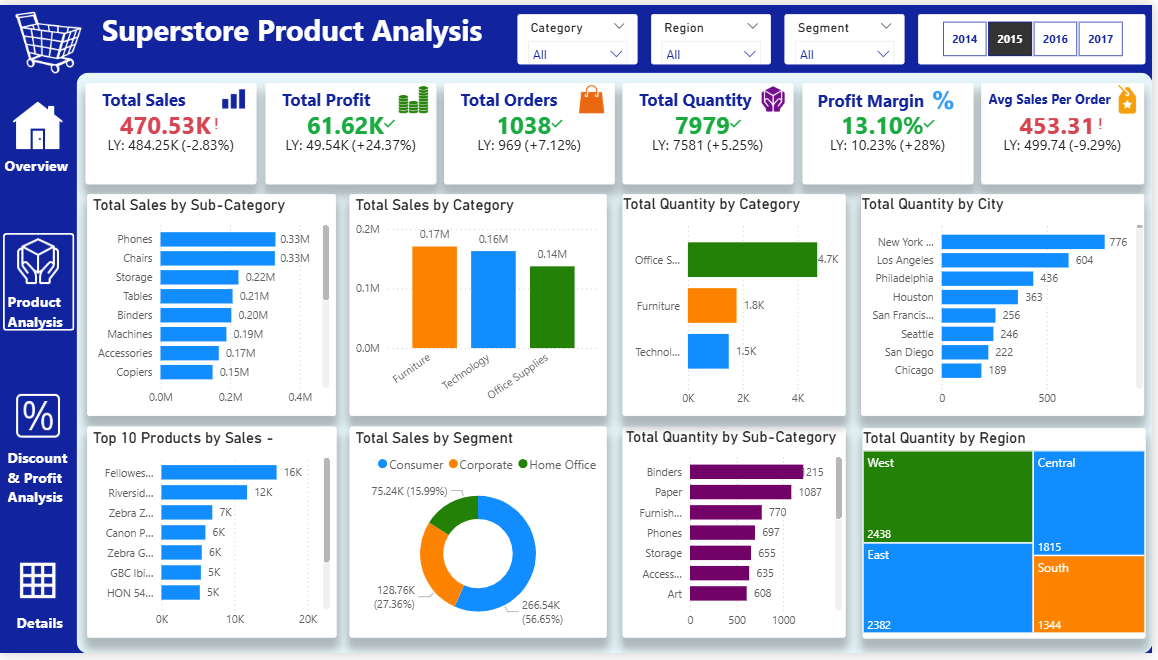

The dashboard page shown, as its layout file describes it:
{"tool":"powerbi","page":{"name":"Product Analysis","canvas":[1280,720],"ordinal":1},"visuals":[{"type":"shape","box":[85.7,75.7,1195.7,645.7],"z":0},{"type":"slicer","fields":{"Values":["Date.Year"]},"box":[1019.6,9.5,252.9,55.7],"z":1000},{"type":"group","id":"g1","title":"Group 1","box":[95.7,86.6,190,112.9],"z":2000},{"type":"kpi","fields":{"Indicator":["key_measures.Total Sales"],"TrendLine":["Date.Year"],"Goal":["key_measures.LY Sales Display"]},"box":[95.7,86.6,190,112.9],"z":2000,"group":"g1"},{"type":"kpi","fields":{"TrendLine":["Date.Year"],"Indicator":["key_measures.Total Profit"],"Goal":["key_measures.Last Year Profit"]},"box":[294.4,86.6,190,112.9],"z":2000,"group":"g2"},{"type":"kpi","fields":{"TrendLine":["Date.Year"],"Indicator":["key_measures.Total Orders"],"Goal":["key_measures.LY Orders"]},"box":[493.3,86.6,190,112.9],"z":2000,"group":"g4"},{"type":"kpi","fields":{"TrendLine":["Date.Year"],"Indicator":["key_measures.Total Quantity"],"Goal":["key_measures.Last Year Qty"]},"box":[692.2,86.6,190,112.9],"z":2000,"group":"g5"},{"type":"kpi","fields":{"TrendLine":["Date.Year"],"Indicator":["key_measures.Profit Margin %"],"Goal":["key_measures.LY Profit Margin %"]},"box":[891,86.6,190,112.9],"z":2000,"group":"g6"},{"type":"kpi","fields":{"TrendLine":["Date.Year"],"Indicator":["key_measures.Average Sales Per Order"],"Goal":["key_measures.LY Avg sales per order"]},"box":[1090,87.1,181.4,112.9],"z":2000,"group":"g3"},{"type":"textbox","box":[108.4,86.6,133.6,35],"z":3000,"group":"g1"},{"type":"group","id":"g2","title":"Group 1","box":[294.4,86.6,190,112.9],"z":3000},{"type":"textbox","box":[307.1,86.6,133.6,35],"z":3000,"group":"g2"},{"type":"textbox","box":[506,86.6,133.6,35],"z":3000,"group":"g4"},{"type":"textbox","box":[704.9,86.6,137,35],"z":3000,"group":"g5"},{"type":"textbox","box":[903.5,87.9,144.3,34.4],"z":3000,"group":"g6"},{"type":"textbox","box":[1092.7,89,155.7,37.1],"z":3000,"group":"g3"},{"type":"group","id":"g3","title":"Group 1","box":[1090,87.1,181.4,112.9],"z":4000},{"type":"group","id":"g4","title":"Group 1","box":[493.3,86.6,190,112.9],"z":5000},{"type":"group","id":"g5","title":"Group 1","box":[692.2,86.6,190,112.9],"z":6000},{"type":"group","id":"g6","title":"Group 1","box":[891,86.6,190,112.9],"z":7000},{"type":"image","box":[242,88.9,34.6,32.1],"z":8000},{"type":"image","box":[639.5,88.9,34.6,32.1],"z":9000},{"type":"image","box":[842,88.9,34.6,32.1],"z":10000},{"type":"image","box":[1030.2,90.1,35.4,32.3],"z":11000},{"type":"image","box":[1235.7,88.6,35.7,32.9],"z":12000},{"type":"clusteredBarChart","fields":{"Y":["key_measures.Total Sales"],"Category":["Superstore.Sub-Category"]},"box":[97,210,276.8,246.5],"z":13000},{"type":"clusteredColumnChart","fields":{"Category":["Superstore.Category"],"Y":["key_measures.Total Sales"]},"box":[388.1,210,286.3,246.5],"z":14000},{"type":"image","box":[440.8,88.7,35.2,32.4],"z":15000},{"type":"donutChart","fields":{"Y":["key_measures.Total Sales"],"Category":["Superstore.Segment"]},"box":[387.9,469,286.2,234.5],"z":16000},{"type":"clusteredBarChart","fields":{"Y":["key_measures.Total Sales"],"Category":["Superstore.Product Name"]},"box":[96.6,469,277.6,234.5],"z":17000},{"type":"textbox","box":[107.7,0,444.2,55.8],"z":18000},{"type":"slicer","fields":{"Values":["Superstore.Region"]},"box":[722.7,9.5,133.6,55.7],"z":19000},{"type":"slicer","fields":{"Values":["Superstore.Segment"]},"box":[871.1,9.5,133.6,55.7],"z":20000},{"type":"image","box":[0,0,108.6,80],"z":21000},{"type":"image","box":[12.7,105,57.3,60.4],"z":22000},{"type":"textbox","box":[0,162.2,85.9,36.6],"z":23000},{"type":"shape","box":[3.4,253.4,79.3,108.6],"z":24000},{"type":"slicer","fields":{"Values":["Superstore.Category"]},"box":[574.2,9.5,133.6,55.7],"z":25000},{"type":"image","box":[13.5,254.2,57.8,59.7],"z":26000},{"type":"textbox","box":[3.2,313.4,82.7,57.3],"z":27000},{"type":"card","fields":{"Values":["key_measures.LY_Message"]},"box":[177.2,48.1,300.4,27],"z":28000},{"type":"clusteredBarChart","fields":{"Category":["Superstore.Sub-Category"],"Y":["key_measures.Total Quantity"]},"box":[691.4,469,248.3,234.5],"z":29000},{"type":"clusteredBarChart","fields":{"Y":["key_measures.Total Quantity"],"Category":["Superstore.Category"]},"box":[691.9,210,248.1,246.5],"z":30000},{"type":"image","box":[13.5,426.9,57.7,59.6],"z":32000},{"type":"textbox","box":[3.8,486.5,82.7,90.4],"z":33000},{"type":"clusteredBarChart","fields":{"Y":["key_measures.Total Quantity"],"Category":["Superstore.City"]},"box":[956,210,314.9,246.5],"z":34000},{"type":"treemap","fields":{"Group":["Superstore.Region"],"Values":["key_measures.Total Quantity"]},"box":[957.5,469.2,314.9,233.8],"z":35000},{"type":"image","box":[12.7,610.8,57.3,58.9],"z":36000},{"type":"textbox","box":[12.7,669.6,65,36.6],"z":37000}]}

Visuals, with their boxes in screenshot pixels (x1, y1, x2, y2), scaled from the page's 1280x720 canvas onto the 1158x660 screenshot:
shape: locate(78, 69, 1157, 659)
slicer - Date.Year: locate(922, 9, 1151, 60)
"Group 1" group: locate(87, 79, 258, 183)
kpi - key_measures.Total Sales x Date.Year: locate(87, 79, 258, 183)
kpi - Date.Year x key_measures.Total Profit: locate(266, 79, 438, 183)
kpi - Date.Year x key_measures.Total Orders: locate(446, 79, 618, 183)
kpi - Date.Year x key_measures.Total Quantity: locate(626, 79, 798, 183)
kpi - Date.Year x key_measures.Profit Margin %: locate(806, 79, 978, 183)
kpi - Date.Year x key_measures.Average Sales Per Order: locate(986, 80, 1150, 183)
textbox: locate(98, 79, 219, 111)
"Group 1" group: locate(266, 79, 438, 183)
textbox: locate(278, 79, 399, 111)
textbox: locate(458, 79, 579, 111)
textbox: locate(638, 79, 762, 111)
textbox: locate(817, 81, 948, 112)
textbox: locate(989, 82, 1129, 116)
"Group 1" group: locate(986, 80, 1150, 183)
"Group 1" group: locate(446, 79, 618, 183)
"Group 1" group: locate(626, 79, 798, 183)
"Group 1" group: locate(806, 79, 978, 183)
image: locate(219, 81, 250, 111)
image: locate(579, 81, 610, 111)
image: locate(762, 81, 793, 111)
image: locate(932, 83, 964, 112)
image: locate(1118, 81, 1150, 111)
clusteredBarChart - key_measures.Total Sales x Superstore.Sub-Category: locate(88, 192, 338, 418)
clusteredColumnChart - Superstore.Category x key_measures.Total Sales: locate(351, 192, 610, 418)
image: locate(399, 81, 431, 111)
donutChart - key_measures.Total Sales x Superstore.Segment: locate(351, 430, 610, 645)
clusteredBarChart - key_measures.Total Sales x Superstore.Product Name: locate(87, 430, 339, 645)
textbox: locate(97, 0, 499, 51)
slicer - Superstore.Region: locate(654, 9, 775, 60)
slicer - Superstore.Segment: locate(788, 9, 909, 60)
image: locate(0, 0, 98, 73)
image: locate(11, 96, 63, 152)
textbox: locate(0, 149, 78, 182)
shape: locate(3, 232, 75, 332)
slicer - Superstore.Category: locate(519, 9, 640, 60)
image: locate(12, 233, 65, 288)
textbox: locate(3, 287, 78, 340)
card - key_measures.LY_Message: locate(160, 44, 432, 69)
clusteredBarChart - Superstore.Sub-Category x key_measures.Total Quantity: locate(626, 430, 850, 645)
clusteredBarChart - key_measures.Total Quantity x Superstore.Category: locate(626, 192, 850, 418)
image: locate(12, 391, 64, 446)
textbox: locate(3, 446, 78, 529)
clusteredBarChart - key_measures.Total Quantity x Superstore.City: locate(865, 192, 1150, 418)
treemap - Superstore.Region x key_measures.Total Quantity: locate(866, 430, 1151, 644)
image: locate(11, 560, 63, 614)
textbox: locate(11, 614, 70, 647)
